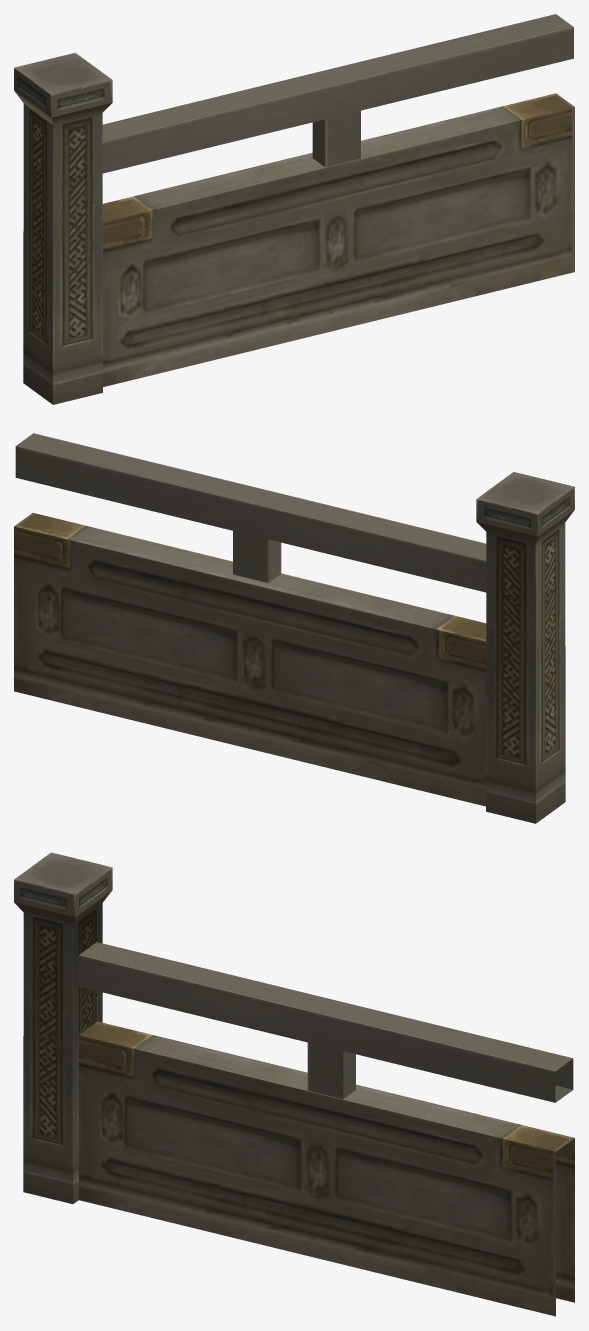
Rendered from s7_qianchongta_neibu_jianzhu001_langan.FBX.
The picture shows the model from 3 angles, top to bottom: view 1: azimuth 30°, elevation 25°; view 2: azimuth 150°, elevation 25°; view 3: azimuth 330°, elevation 25°; orthographic projection.
Parts seen in each view (by area): view 1: Object0sdfdf1; view 2: Object0sdfdf1; view 3: Object0sdfdf1.
Part boxes in pixels (x1,y1,x2,y2): Object0sdfdf1: (14,14,574,404); Object0sdfdf1: (14,433,574,823); Object0sdfdf1: (14,852,574,1316).
Size of the model in its own units: 3.7 by 2.08 by 0.4485.
